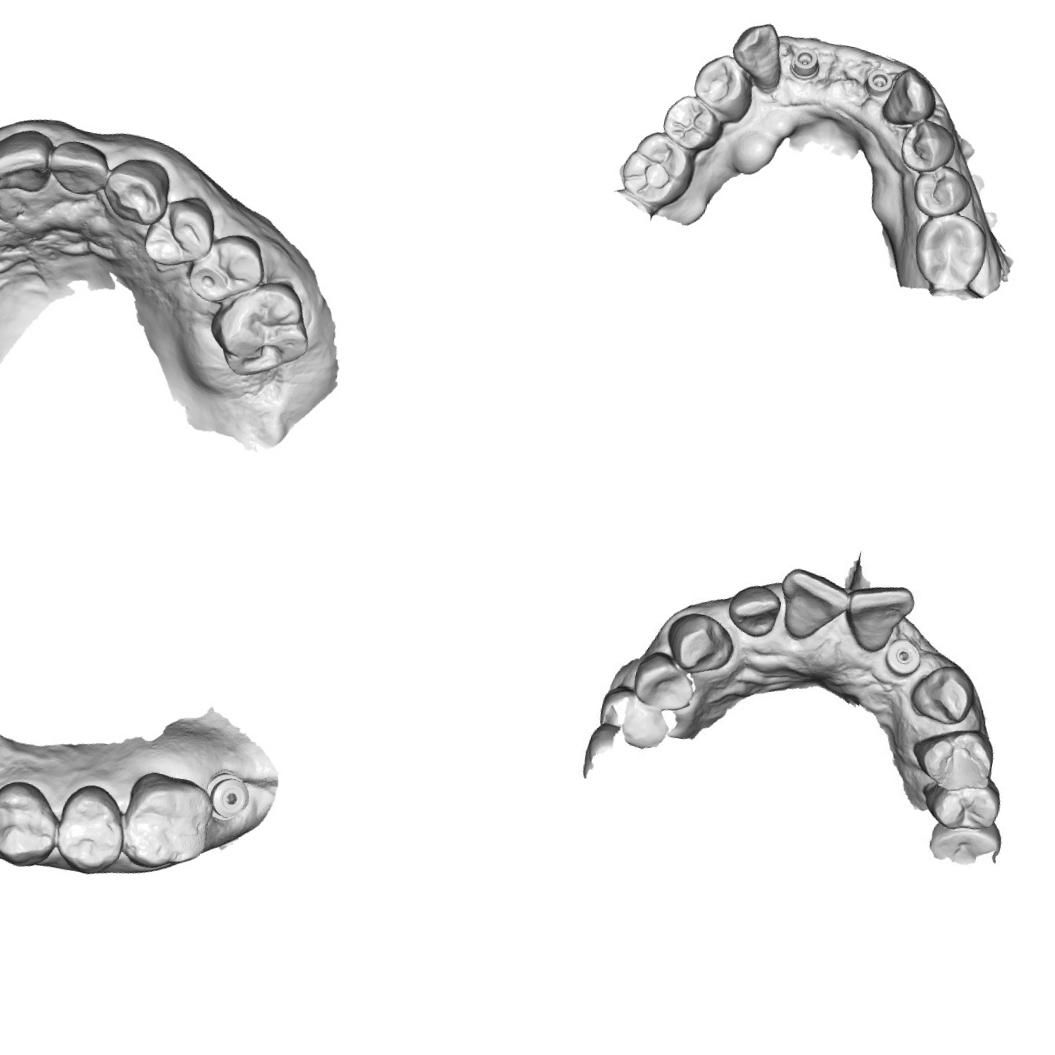canine: (724, 15, 793, 92), (664, 610, 740, 678), (910, 660, 977, 730), (102, 156, 172, 222), (879, 64, 942, 132)
implant: (203, 768, 254, 826), (882, 633, 924, 681), (786, 42, 824, 84), (858, 65, 896, 100)
incisor: (778, 565, 854, 646), (842, 577, 913, 656), (45, 136, 112, 201), (0, 122, 57, 197), (730, 581, 784, 640)
molar: (201, 267, 320, 386), (114, 766, 219, 880), (904, 204, 994, 297), (614, 124, 701, 210)
premolar: (44, 778, 132, 880), (182, 224, 270, 310), (0, 774, 67, 877), (139, 192, 222, 272), (911, 725, 997, 796), (686, 48, 760, 126), (906, 159, 977, 225), (658, 90, 728, 155), (630, 651, 698, 715), (896, 114, 961, 176), (931, 781, 1000, 836)
